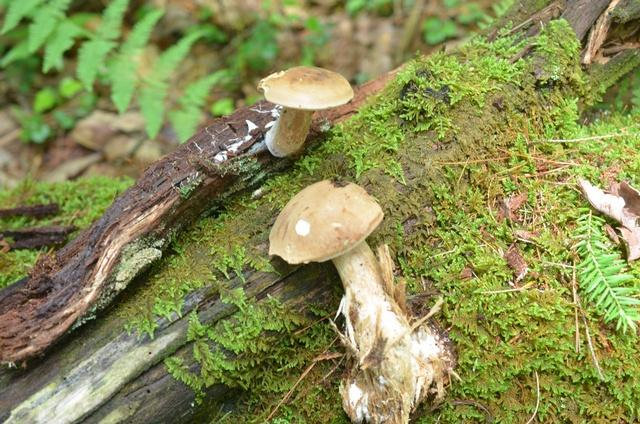Non-edible Mushroom: (267, 177, 457, 422), (256, 64, 354, 159)
